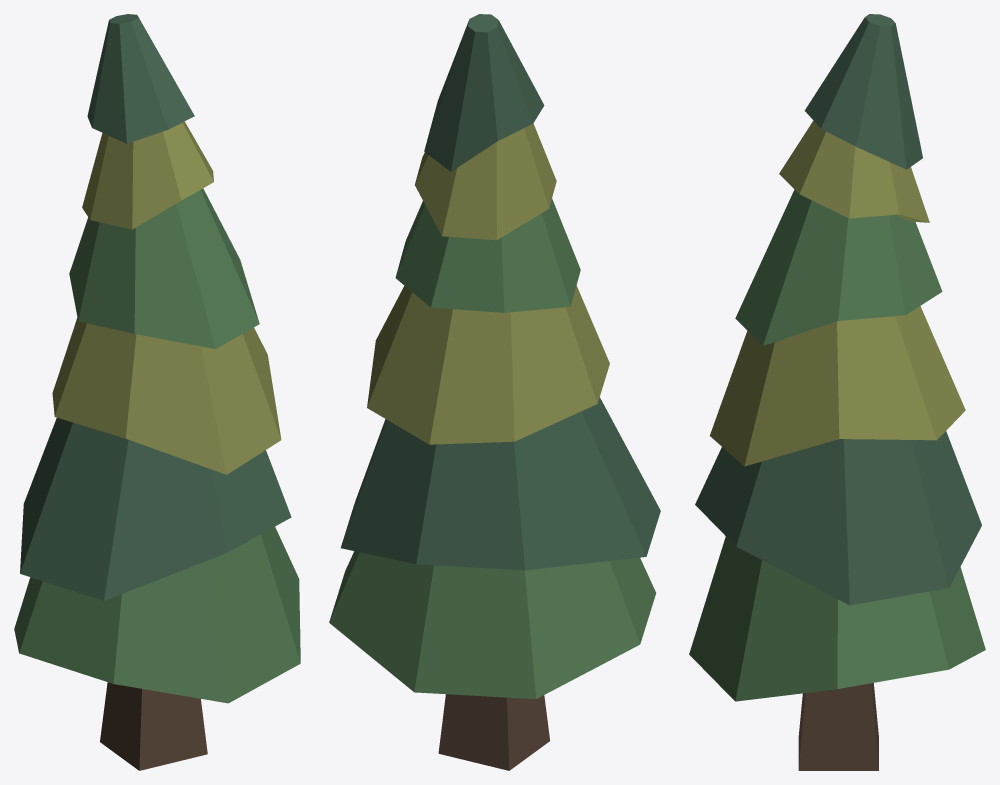
The model's file is tree1_1.fbx.
3 views of the same model, side by side, from view 1: azimuth 30°, elevation 25°; view 2: azimuth 150°, elevation 25°; view 3: azimuth 270°, elevation 25° (orthographic). The views are drawn at different scales.
Parts seen in each view (by area): view 1: Cylinder.007, Cylinder.006, Cylinder.008, Cylinder.009, Cylinder.010, Cylinder.011, Plane.001; view 2: Cylinder.007, Cylinder.006, Cylinder.008, Cylinder.009, Cylinder.011, Cylinder.010, Plane.001; view 3: Cylinder.007, Cylinder.006, Cylinder.008, Cylinder.009, Cylinder.011, Cylinder.010, Plane.001.
Boxes of the visible parts, box(x1,y1,x2,y2) form: Cylinder.007: box(20, 417, 291, 600); Cylinder.006: box(14, 527, 300, 703); Cylinder.008: box(52, 317, 281, 474); Cylinder.009: box(69, 188, 259, 348); Cylinder.010: box(82, 121, 213, 229); Cylinder.011: box(87, 14, 194, 143); Plane.001: box(100, 682, 207, 770); Cylinder.007: box(340, 397, 660, 570); Cylinder.006: box(329, 551, 656, 699); Cylinder.008: box(367, 285, 609, 444); Cylinder.009: box(395, 198, 580, 312); Cylinder.011: box(424, 14, 544, 171); Cylinder.010: box(415, 123, 556, 240); Plane.001: box(438, 694, 549, 770); Cylinder.007: box(695, 431, 981, 605); Cylinder.006: box(689, 536, 985, 701); Cylinder.008: box(710, 306, 965, 466); Cylinder.009: box(735, 189, 942, 345); Cylinder.011: box(804, 14, 922, 169); Cylinder.010: box(779, 120, 929, 222); Plane.001: box(798, 683, 878, 770).
Size of the model in its own units: 442 by 1066 by 392.
